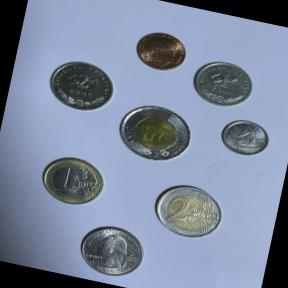coin: (109, 96, 200, 173), (144, 174, 232, 248), (37, 50, 124, 120), (70, 216, 152, 287), (33, 148, 112, 214), (128, 22, 194, 78), (212, 113, 276, 164)
